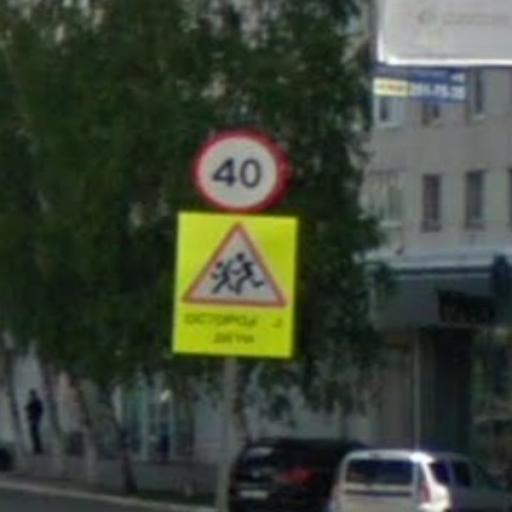traffic_sign: (183, 222, 289, 312), (191, 130, 289, 213)
